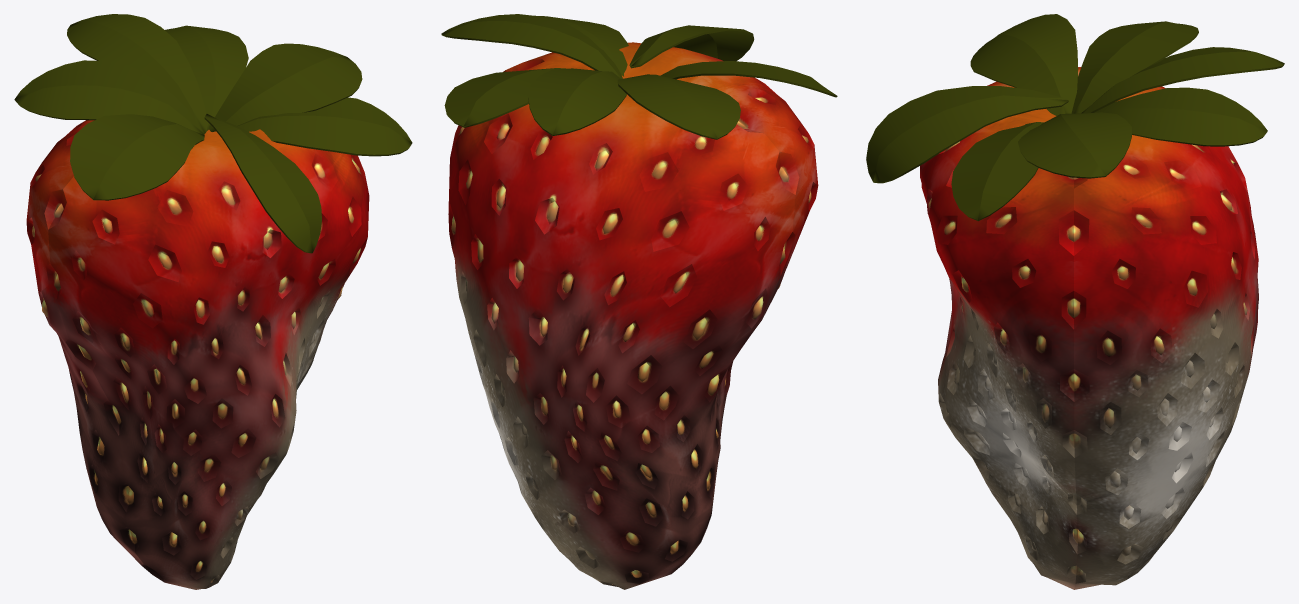
Rendered from mFraiseP2.FBX.
3 renders of one model, left to right at view 1: azimuth 30°, elevation 25°; view 2: azimuth 150°, elevation 25°; view 3: azimuth 270°, elevation 25°, orthographic. The views are drawn at different scales.
Visible parts, largest first — view 1: Fraise_Negatif_02_OUTLINE; view 2: Fraise_Negatif_02_OUTLINE; view 3: Fraise_Negatif_02_OUTLINE.
Boxes of the visible parts, <box> form: Fraise_Negatif_02_OUTLINE: <box>14,14,412,589</box>; Fraise_Negatif_02_OUTLINE: <box>441,14,837,589</box>; Fraise_Negatif_02_OUTLINE: <box>866,14,1284,589</box>.
Bounding box in the file's own units: 1.25 × 1.9 × 1.36.
